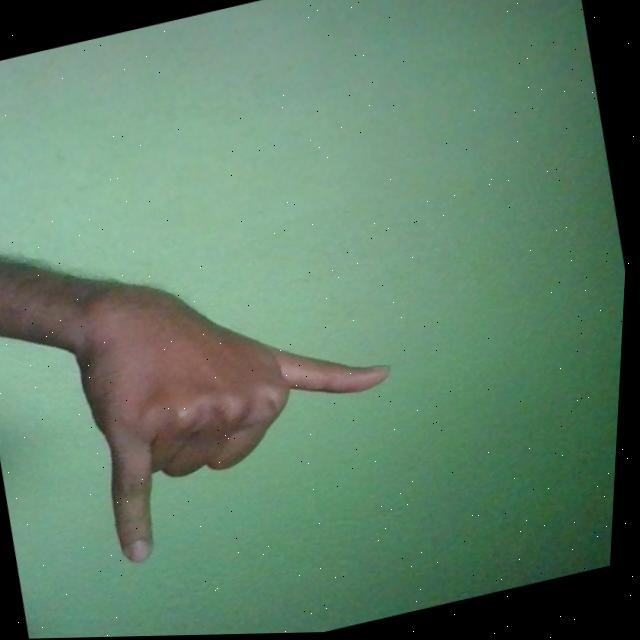Call Me: (53, 215, 427, 571)
